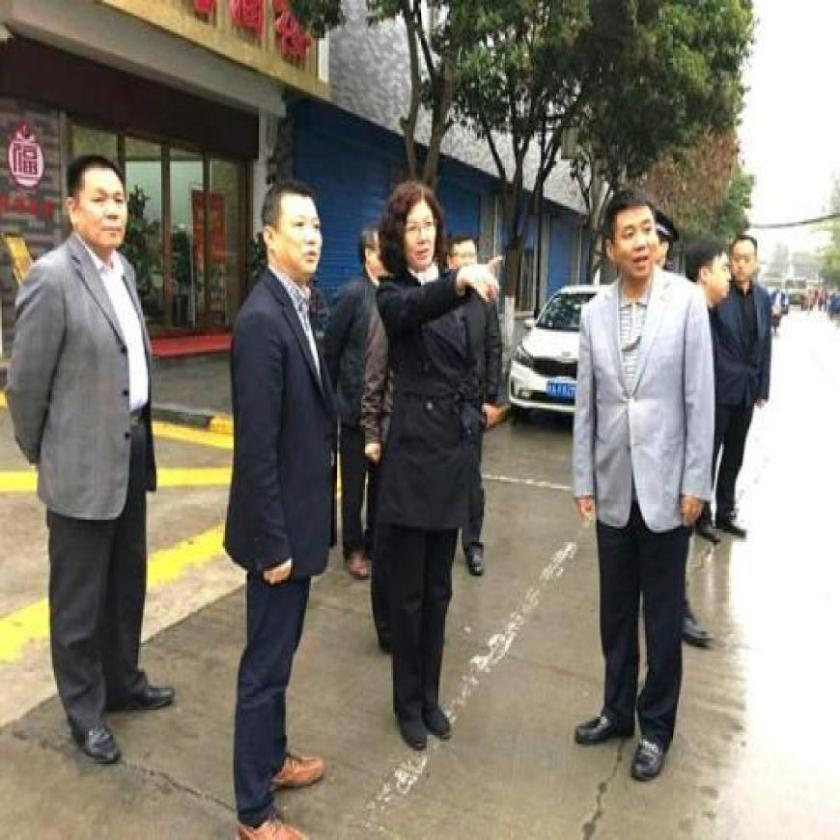Sin_casco: (256, 177, 328, 284), (65, 154, 131, 258), (385, 177, 448, 276), (603, 186, 661, 285), (686, 234, 738, 317), (728, 231, 762, 294), (654, 204, 682, 279), (359, 222, 388, 285), (450, 231, 480, 276)
